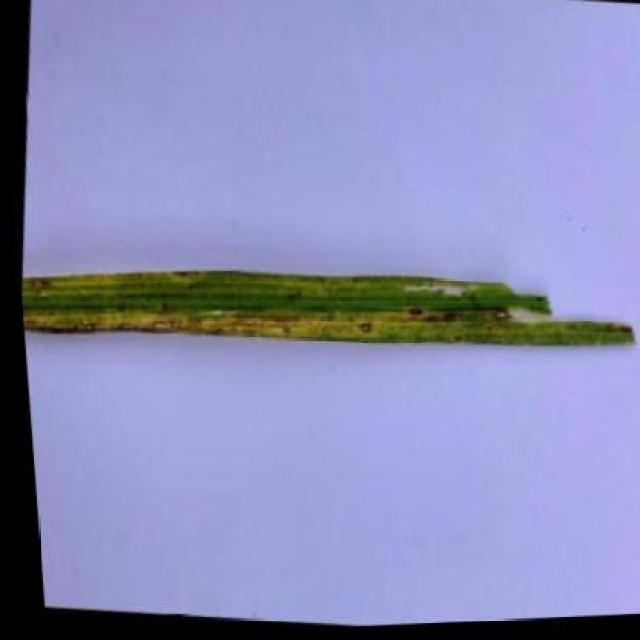Rice False Smut: (14, 220, 640, 405)
